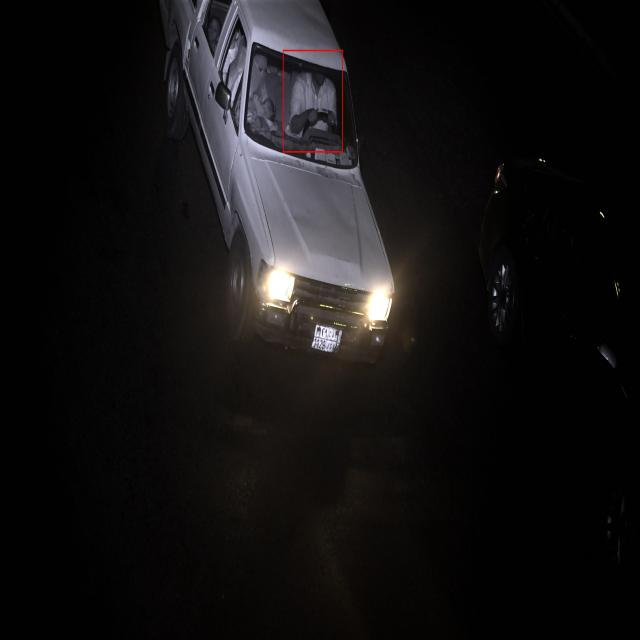windshield: (242, 33, 360, 176)
